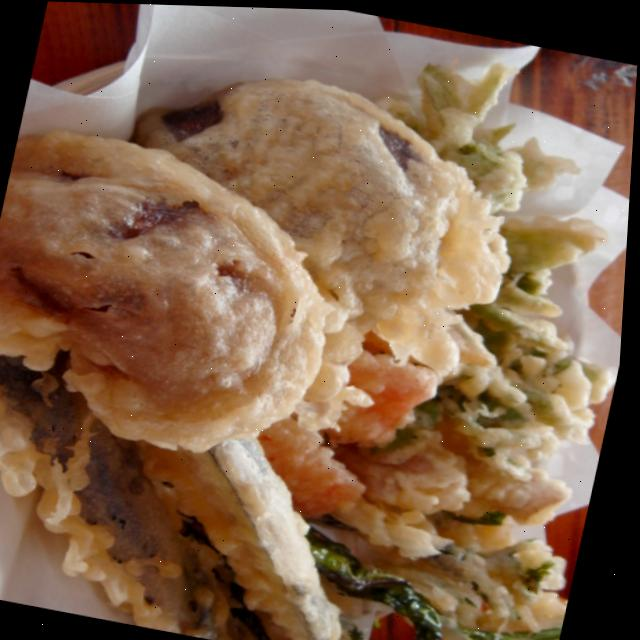蔬菜料理: (0, 37, 638, 640)
